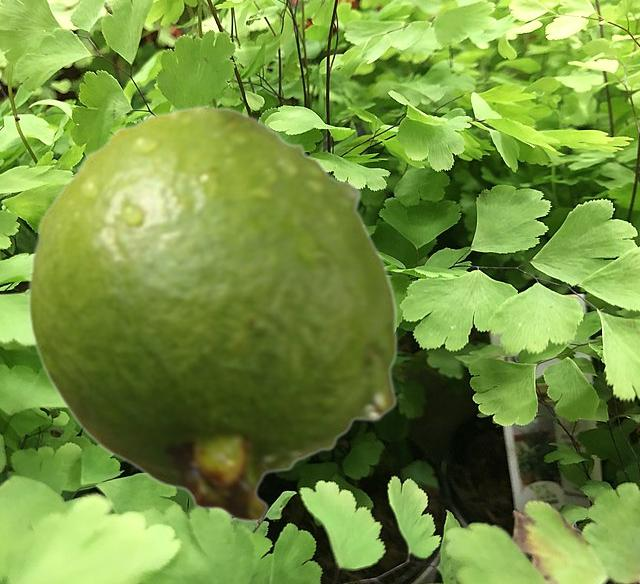guava: (26, 104, 397, 522)
